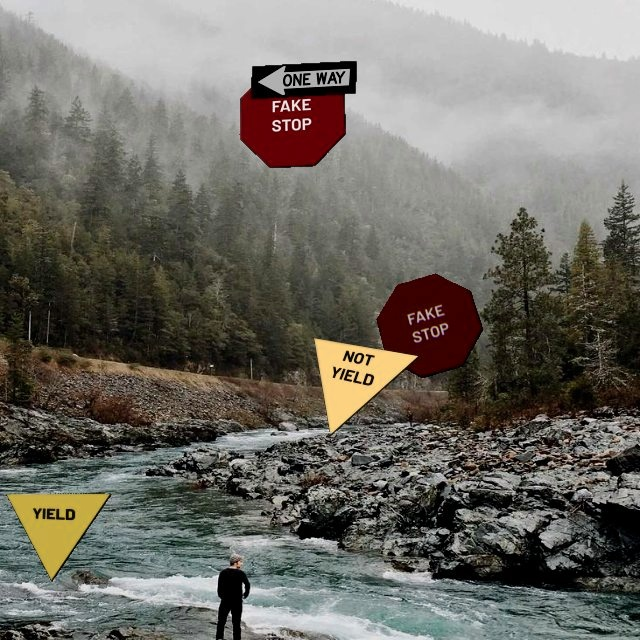FAKE_STOP: (376, 273, 483, 378), (239, 65, 346, 168)
NOT_YIELD: (313, 337, 420, 436)
ONE_WAY_ left: (250, 60, 357, 99)
YIELD: (5, 493, 112, 582)
